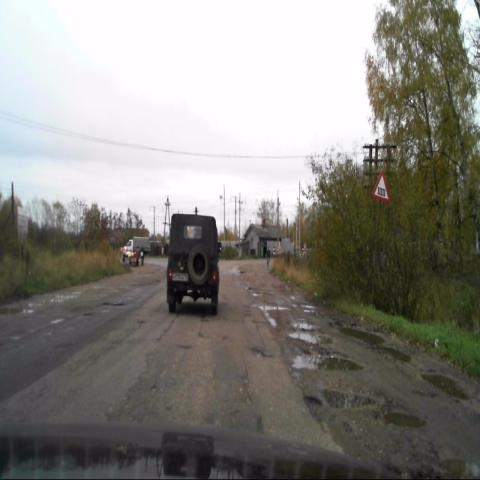1_1: (373, 170, 390, 202)
